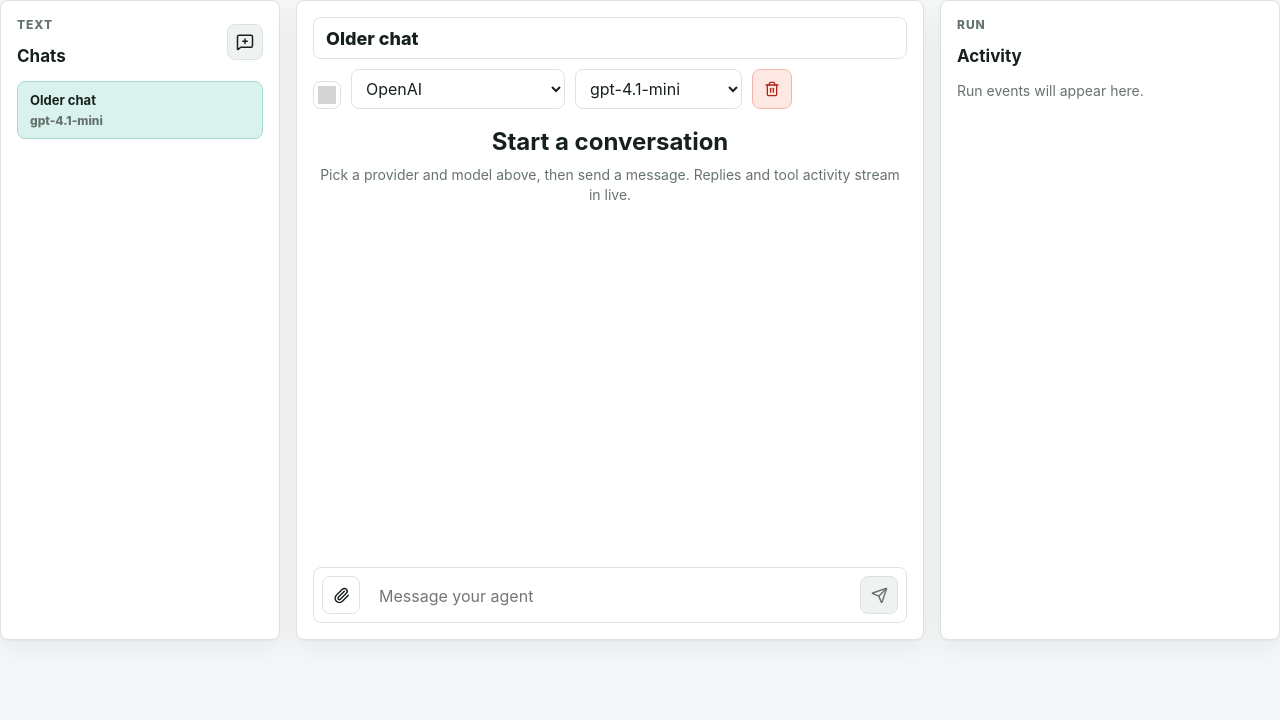
Test: ChatPage model defaults › selects NVIDIA's fast default and exposes its multimodal image route
Check: the 2nd dropdown showing "gpt-4.1-mini" is shown, box [575,69,742,109]
Select "NVIDIA API Catalog" in the 1st dropdown showing "OpenAI" at x=458, y=89, box [351,69,565,109]
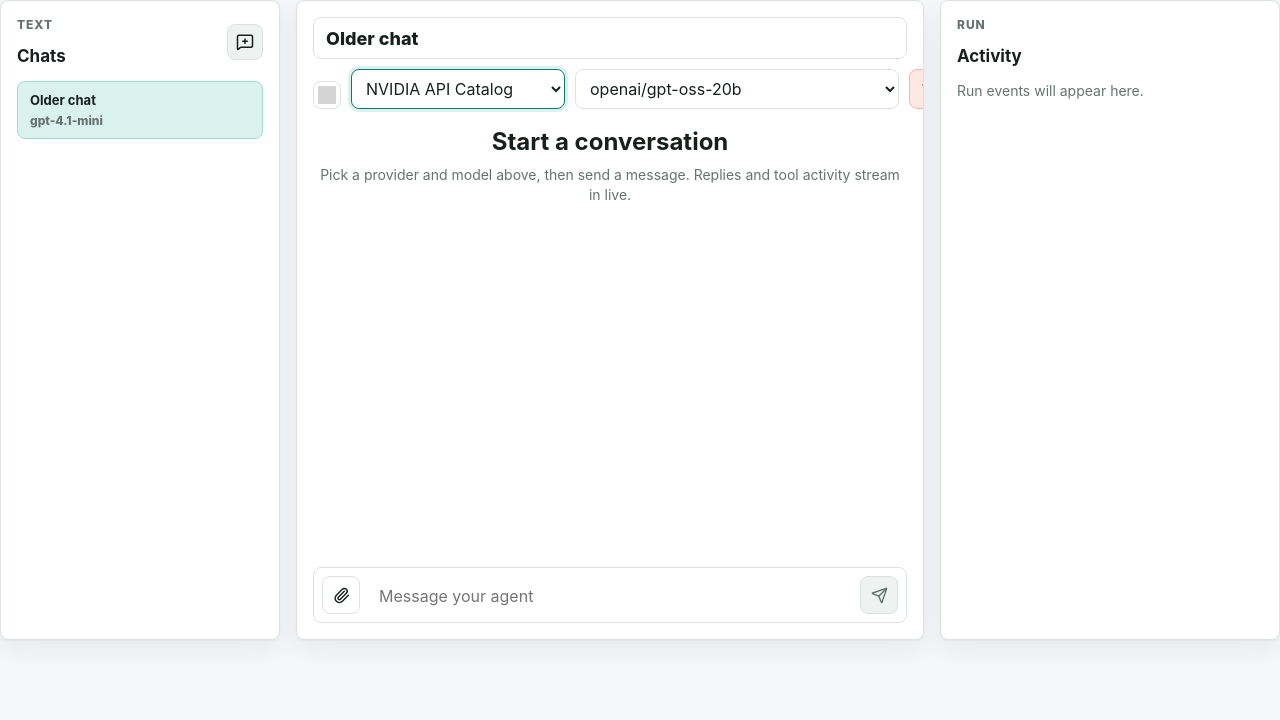
Check: the button titled "Add images · Uses Step 3.7 Flash" is enabled, box [322,576,360,614]
Check: the 2nd dropdown showing "openai/gpt-oss-20b" is shown, box [575,69,899,109]
